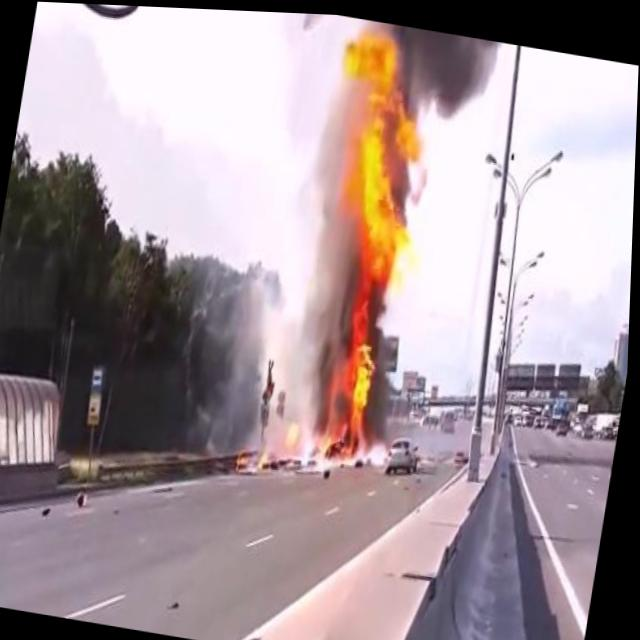fire: (276, 16, 452, 474), (235, 440, 274, 477)
